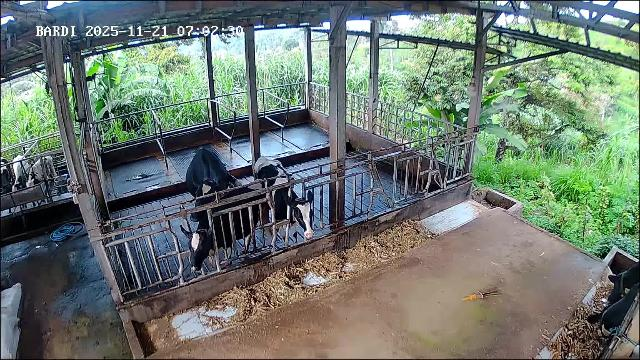mounting: (186, 142, 245, 221)
